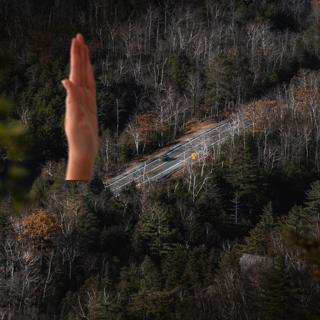Right: (60, 32, 101, 173)
